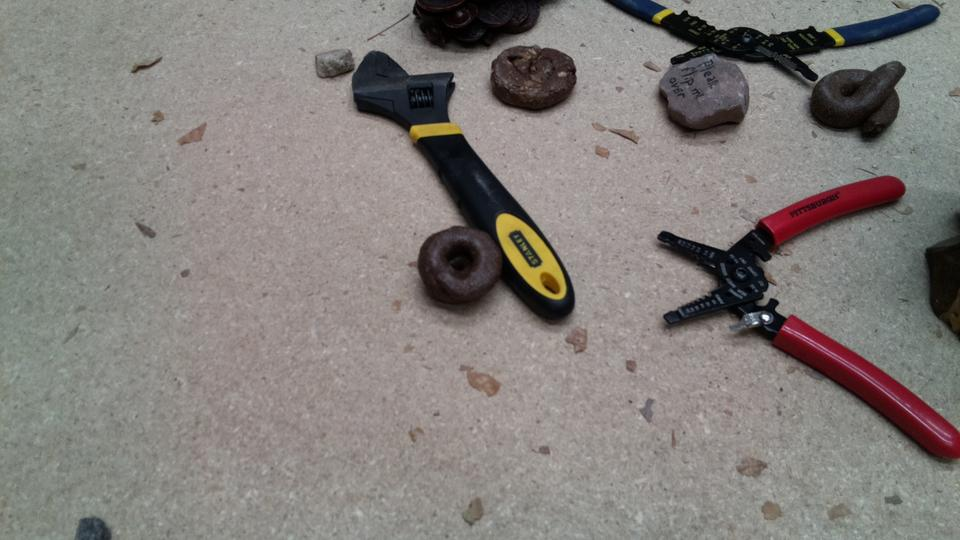poop: (809, 58, 910, 142), (413, 222, 503, 313), (489, 41, 580, 117)
